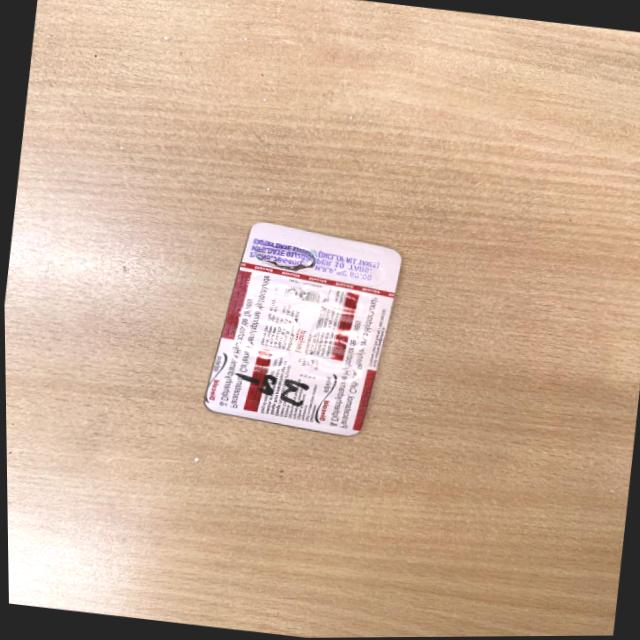medicine: (188, 213, 412, 444)
